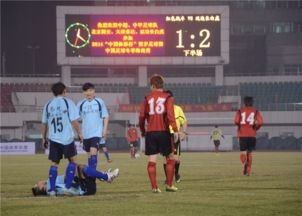falling: (28, 156, 120, 198)
